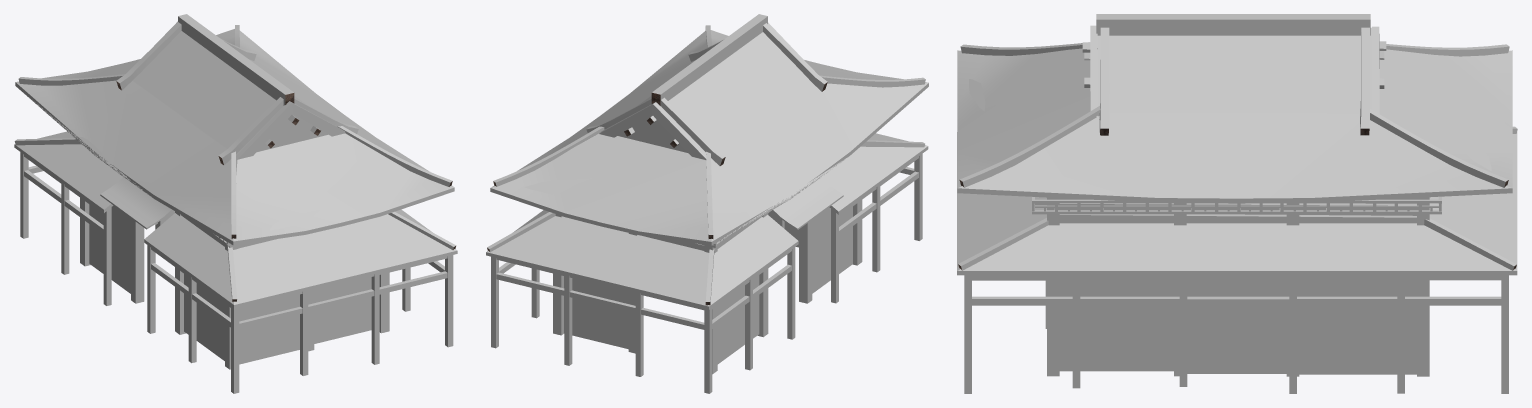
File: building_09.fbx
3 views of the same model, side by side, from view 1: azimuth 30°, elevation 25°; view 2: azimuth 150°, elevation 25°; view 3: azimuth 270°, elevation 25° (orthographic). The views are drawn at different scales.
Parts seen in each view (by area): view 1: polySurface3900; view 2: polySurface3900; view 3: polySurface3900.
Part boxes in pixels (x1,y1,x2,y2): polySurface3900: (14,14,457,393); polySurface3900: (486,14,928,393); polySurface3900: (957,14,1517,393).
Bounding box in the file's own units: 8.93 × 9.29 × 15.1.
